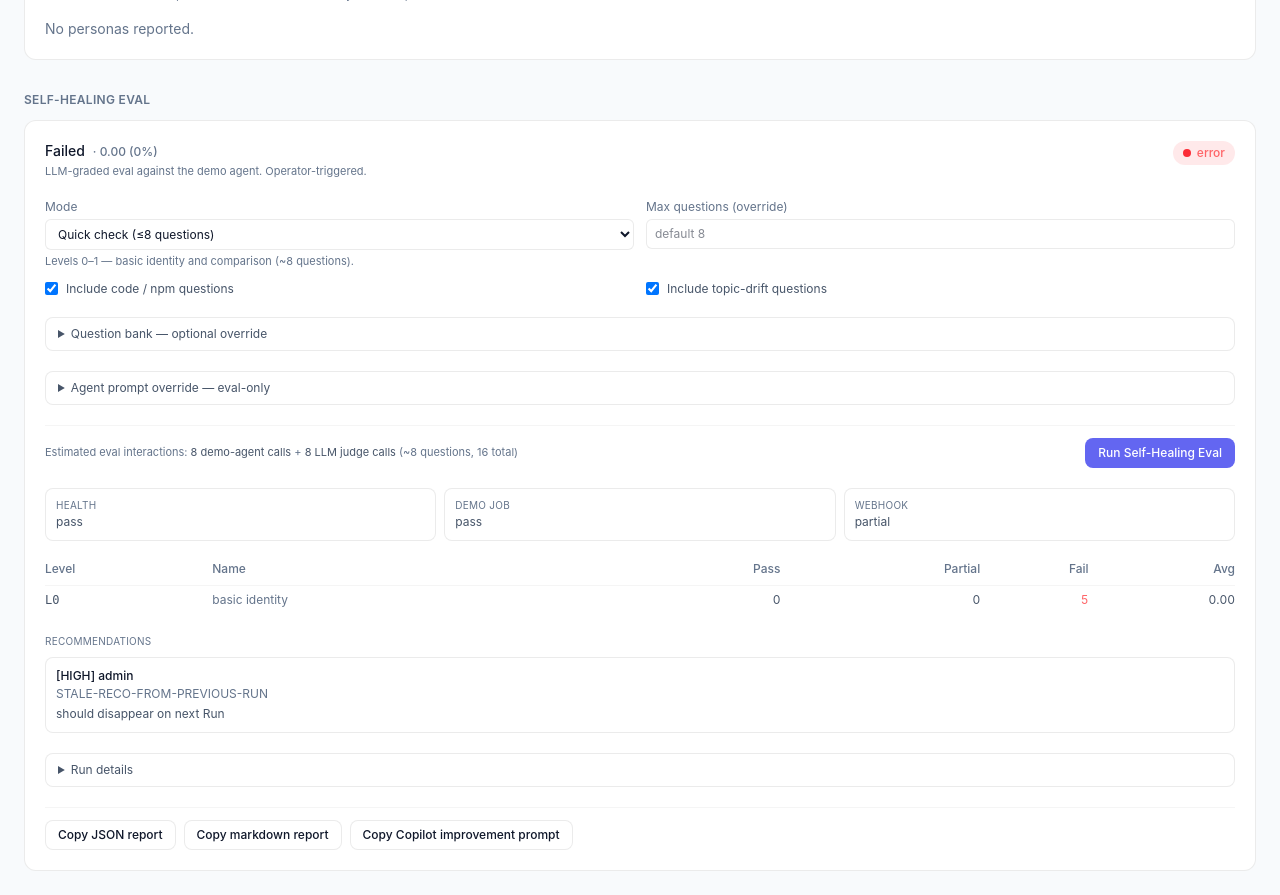
Test case: SelfHealingEval card — clears stale report on Run › hides the previous report immediately on Run click and only re-renders when the new run lands
(page scrolled)
Check: the text "STALE-RECO-FROM-PREVIOUS-RUN" is shown, box [56,686,268,701]
// Click Run.
Click the button "Run Self-Healing Eval" at (1160, 453), box [1085,438,1235,468]
(page scrolled)
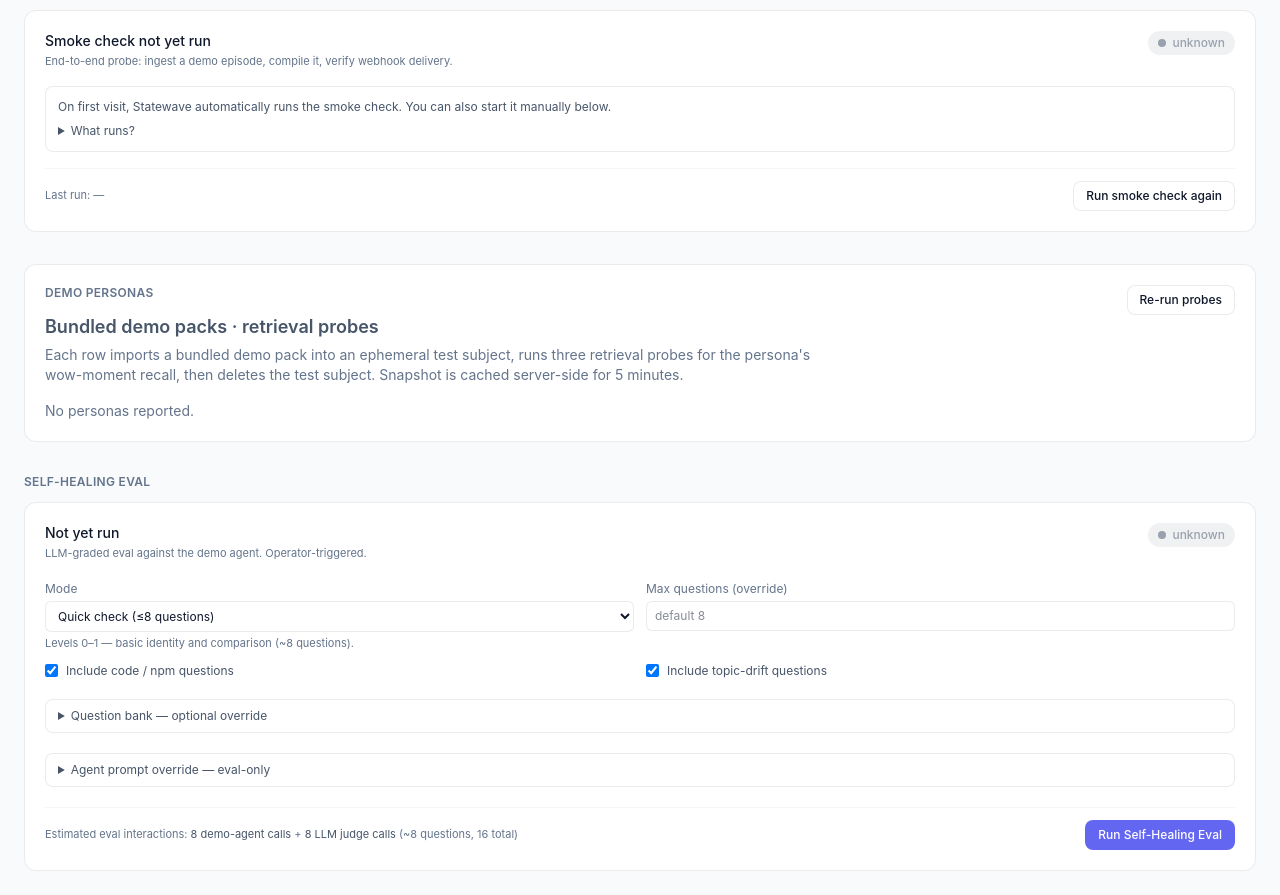
Check: the text "STALE-RECO-FROM-PREVIOUS-RUN" is gone
